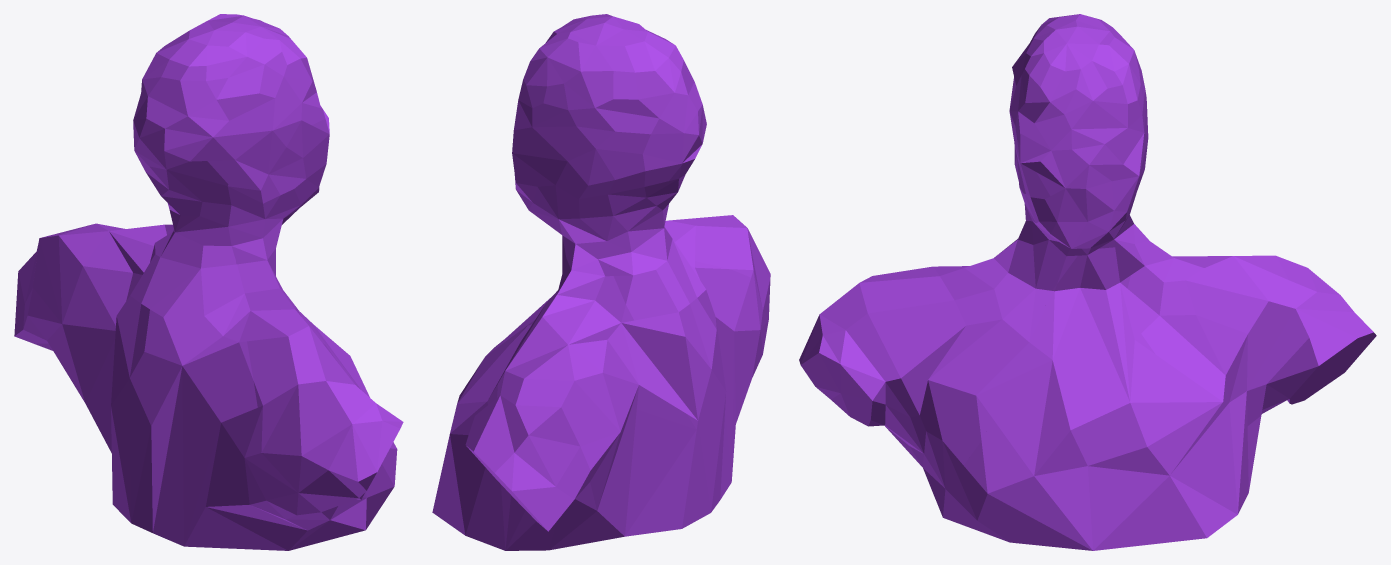
Rendered from Statue.005_chunks.fbx.
The picture shows the model from 3 angles, left to right: view 1: azimuth 30°, elevation 25°; view 2: azimuth 150°, elevation 25°; view 3: azimuth 270°, elevation 25°; orthographic projection. The views are drawn at different scales.
Visible parts, largest first — view 1: Statue.005_0, Statue.005_1, Statue.005_2, Statue.005_4, Statue.005_3, Statue.005_5, Statue.005_6; view 2: Statue.005_2, Statue.005_4, Statue.005_0, Statue.005_3, Statue.005_6, Statue.005_1, Statue.005_5; view 3: Statue.005_5, Statue.005_1, Statue.005_4, Statue.005_2, Statue.005_3, Statue.005_6.
Part boxes in pixels (left/top/right/bottom): Statue.005_0: left=111, top=136, right=266, bottom=517; Statue.005_1: left=231, top=119, right=403, bottom=532; Statue.005_2: left=133, top=14, right=329, bottom=186; Statue.005_4: left=14, top=223, right=173, bottom=343; Statue.005_3: left=35, top=332, right=273, bottom=550; Statue.005_5: left=260, top=312, right=397, bottom=550; Statue.005_6: left=94, top=258, right=279, bottom=527; Statue.005_2: left=512, top=14, right=703, bottom=266; Statue.005_4: left=454, top=253, right=630, bottom=531; Statue.005_0: left=609, top=111, right=763, bottom=447; Statue.005_3: left=437, top=408, right=734, bottom=550; Statue.005_6: left=562, top=249, right=696, bottom=429; Statue.005_1: left=664, top=215, right=770, bottom=352; Statue.005_5: left=432, top=296, right=552, bottom=515; Statue.005_5: left=923, top=299, right=1211, bottom=550; Statue.005_1: left=799, top=131, right=1082, bottom=474; Statue.005_4: left=1119, top=238, right=1376, bottom=453; Statue.005_2: left=1009, top=14, right=1148, bottom=251; Statue.005_3: left=1206, top=384, right=1327, bottom=534; Statue.005_6: left=1047, top=245, right=1130, bottom=303.
Size of the model in its own units: 183 by 342 by 389.
